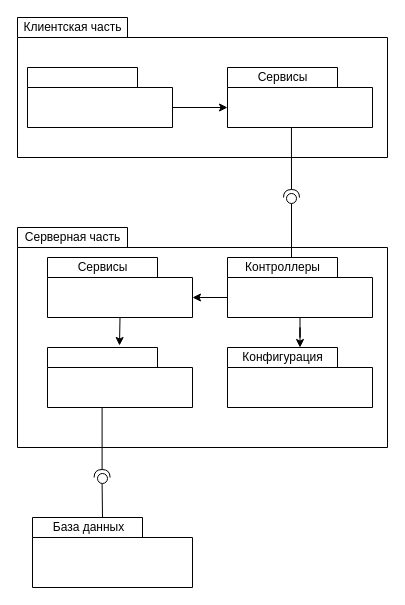
Some shapes in this 405 by 605 pixel diagram are drawn without their labels. Each missing label, with the centre of its shape:
Модули: (x=99, y=97)
Репозиторий: (x=119, y=377)
